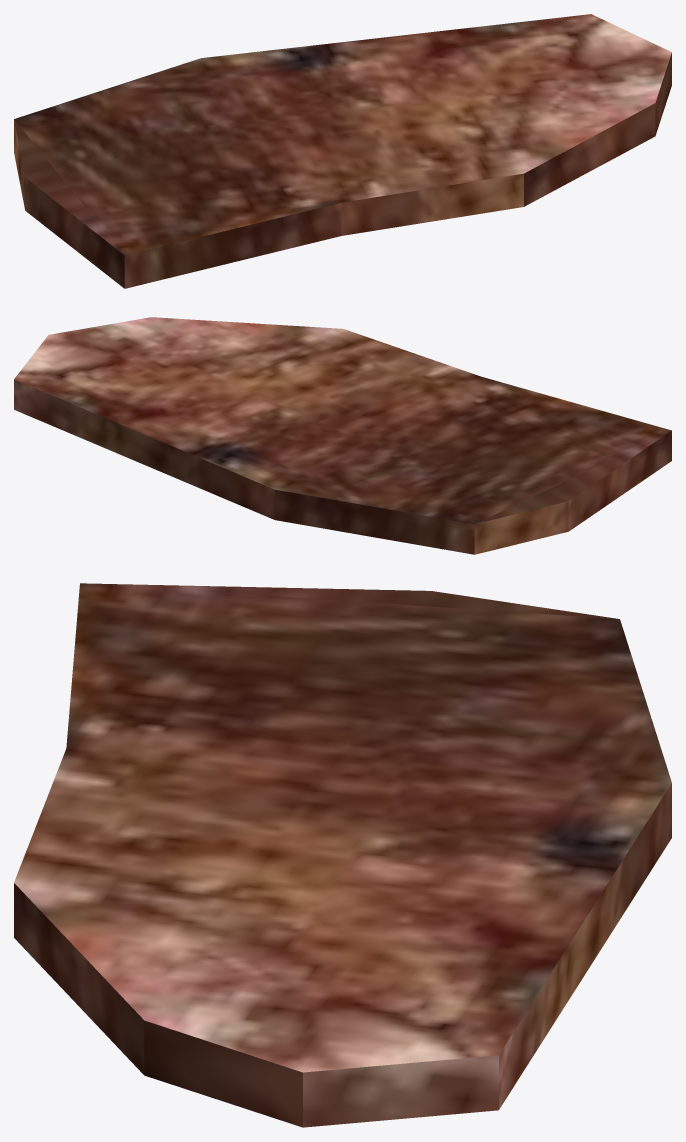
Rendered from Roast_meat_02.glb.
3 views of the same model, one above another, from view 1: azimuth 30°, elevation 25°; view 2: azimuth 150°, elevation 25°; view 3: azimuth 270°, elevation 25° (orthographic). The views are drawn at different scales.
Parts seen in each view (by area): view 1: Roast_meat_02; view 2: Roast_meat_02; view 3: Roast_meat_02.
Boxes of the visible parts, bbox=[...] form: Roast_meat_02: bbox=[14, 14, 671, 288]; Roast_meat_02: bbox=[14, 317, 671, 554]; Roast_meat_02: bbox=[14, 583, 671, 1127].
Bounding box in the file's own units: 0.4108 × 0.0247 × 0.2304.
1 material, 1 textured.
